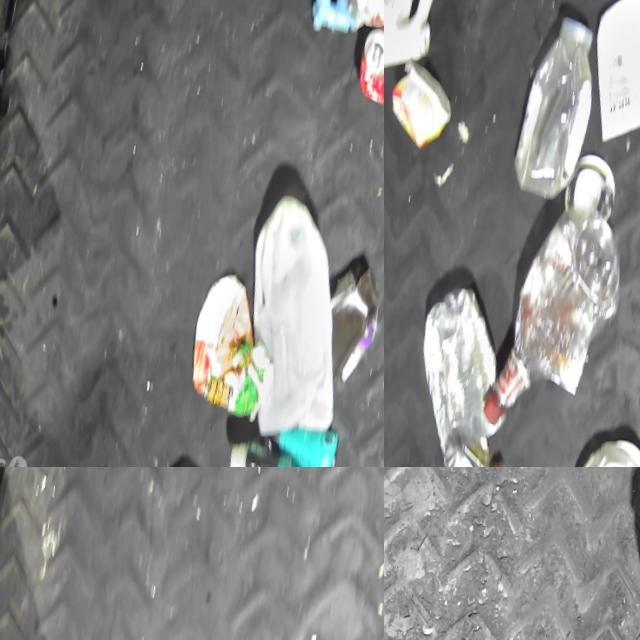can: (384, 274, 527, 467), (547, 150, 619, 230), (340, 18, 384, 114)
milk_jug: (202, 188, 369, 450), (384, 0, 462, 97), (534, 422, 640, 467)
non_white_jug: (201, 413, 333, 467)
plastic_bottle: (449, 198, 637, 452), (411, 442, 506, 467)
